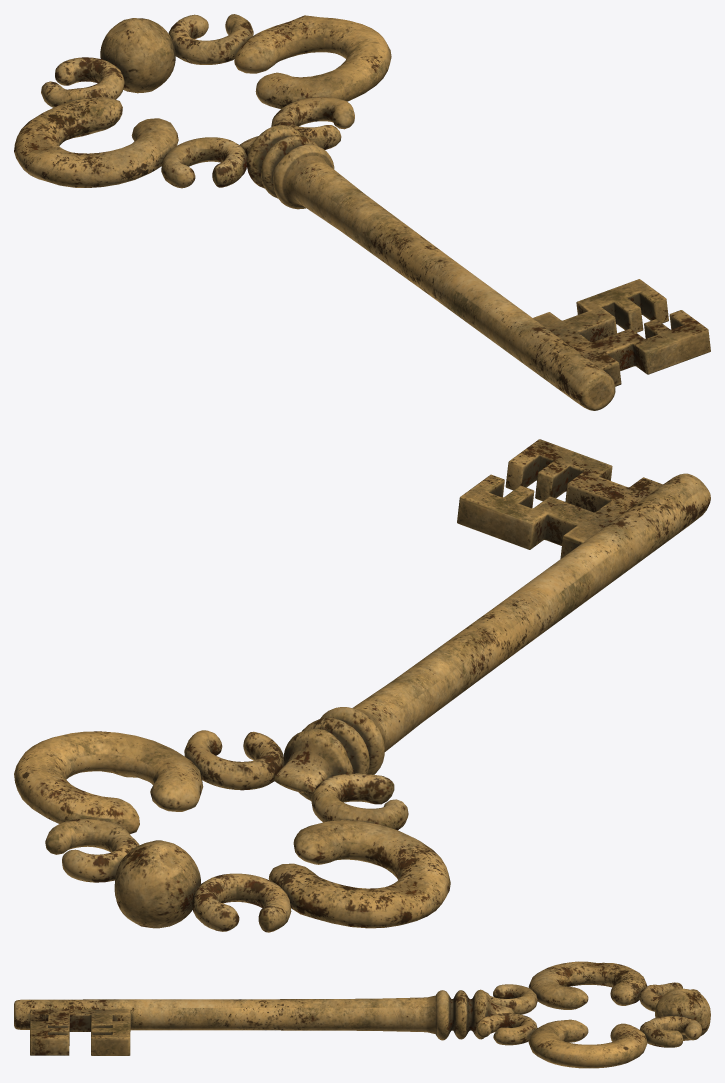
File: llave.obj
3 views of the same model, one above another, from view 1: azimuth 30°, elevation 25°; view 2: azimuth 150°, elevation 25°; view 3: azimuth 270°, elevation 25° (orthographic). The views are drawn at different scales.
Parts seen in each view (by area): view 1: llave:Mesh; view 2: llave:Mesh; view 3: llave:Mesh.
Boxes of the visible parts, box(x1,y1,x2,y2) form: llave:Mesh: box(14, 14, 710, 410); llave:Mesh: box(14, 439, 710, 932); llave:Mesh: box(14, 961, 710, 1068).
Bounding box in the file's own units: 4.19 × 0.7741 × 9.82.
1 material, 1 textured.
